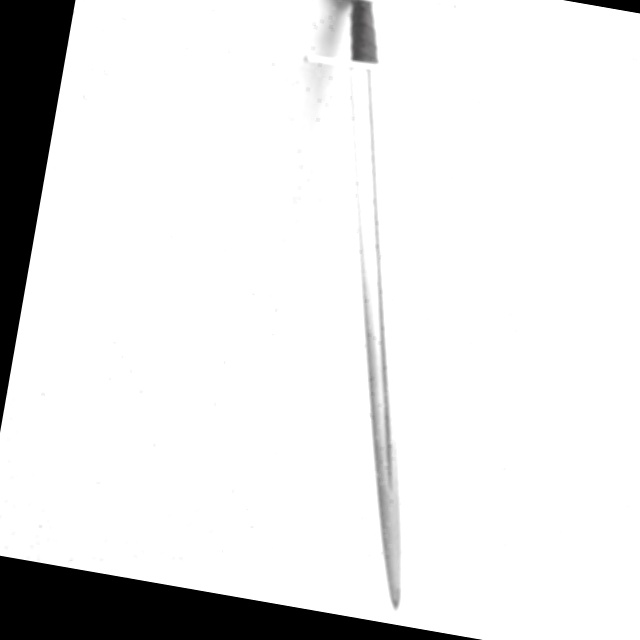Sharp-Object: (242, 0, 509, 617)
